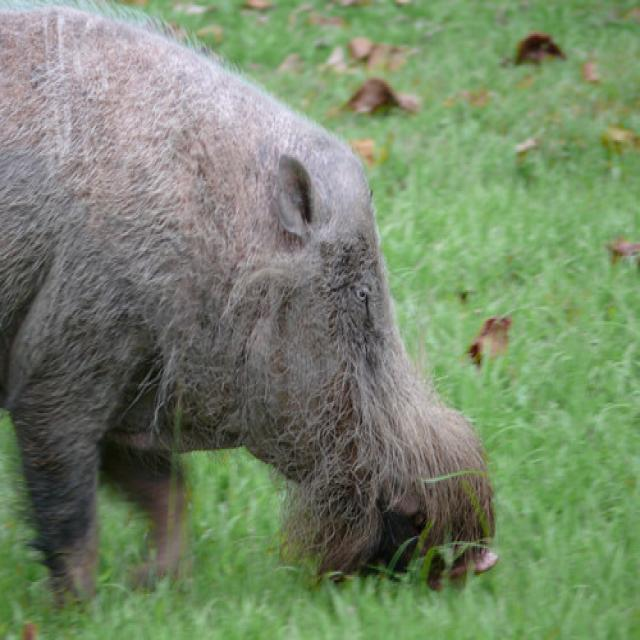boar: (0, 0, 518, 606)
